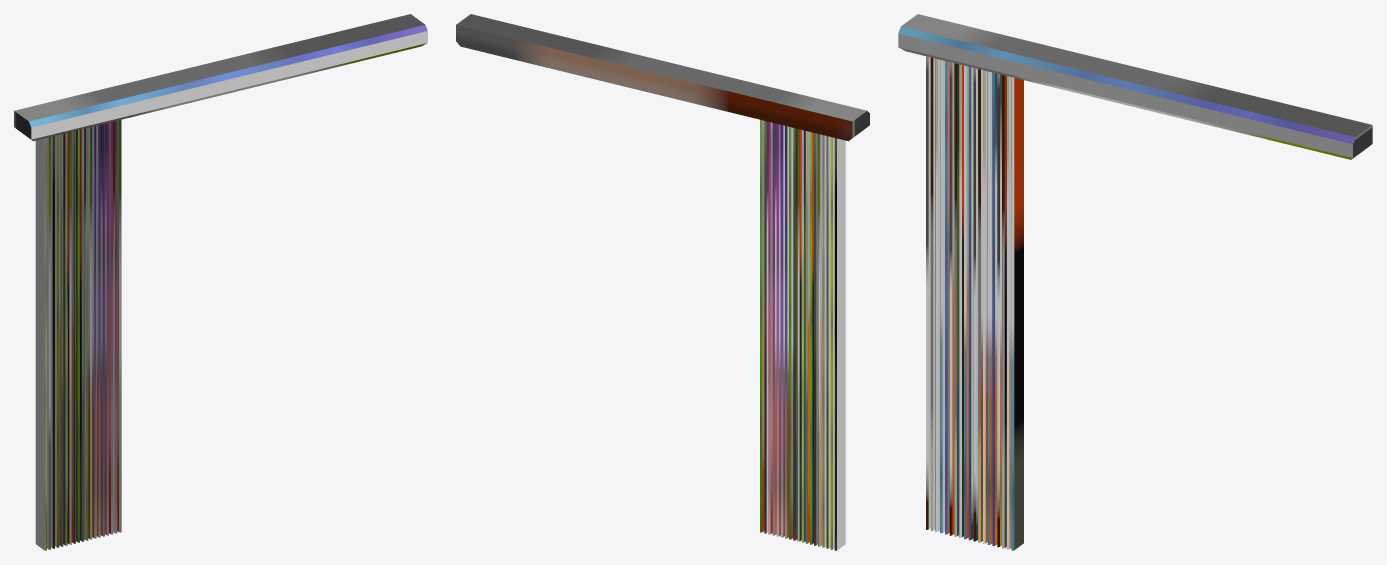
The model's file is Curtain3.glb.
The picture shows the model from 3 angles, left to right: view 1: azimuth 30°, elevation 25°; view 2: azimuth 150°, elevation 25°; view 3: azimuth 330°, elevation 25°; orthographic projection. The views are drawn at different scales.
Parts seen in each view (by area): view 1: Curtain3; view 2: Curtain3; view 3: Curtain3.
Boxes of the visible parts, x1,y1,x2,y2 form: Curtain3: (14, 14, 427, 550); Curtain3: (456, 14, 869, 550); Curtain3: (898, 14, 1372, 550).
Size of the model in its own units: 2 by 2.1 by 0.1498.
Materials: 1 (1 with a texture image).
